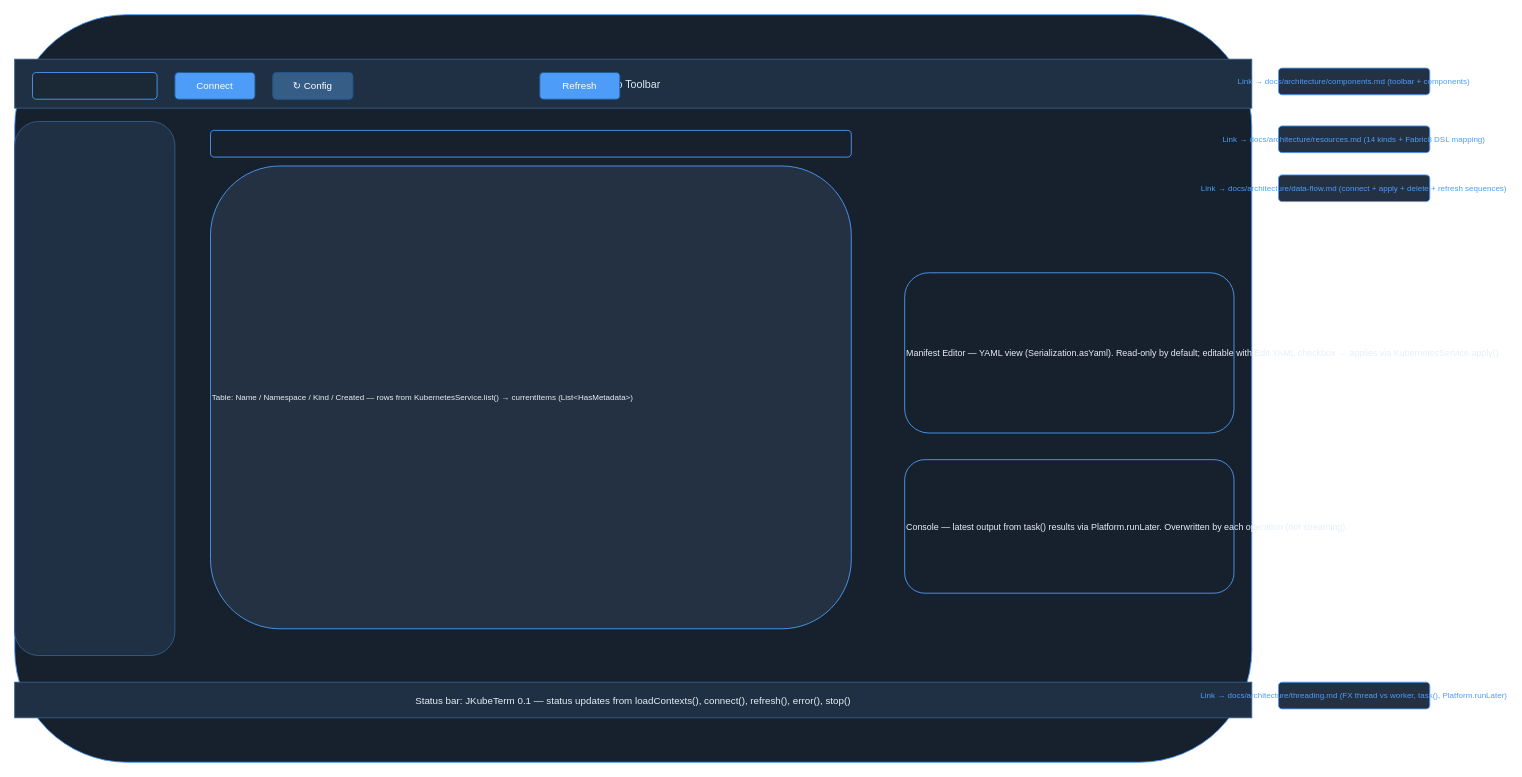
Some shapes in this 1522 by 777 pixel diagram are drawn without their labels. Each missing label, with the centre of its shape:
"Context combo" belongs at point 94,85.
"Filter by name — local filter (case-insensitive contains on name)" belongs at point 530,143.
"Resource Kinds (14 browsable kinds: Pods, Deployments, ...)" belongs at point 94,388.
